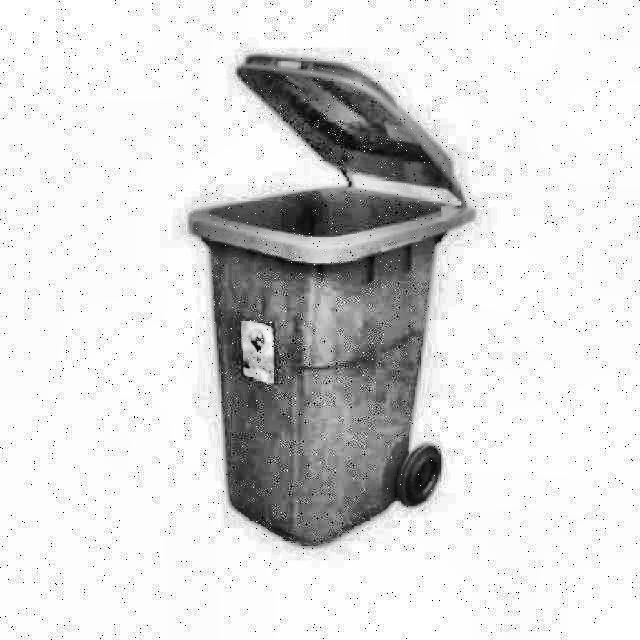Dustbin: (168, 172, 482, 560)
